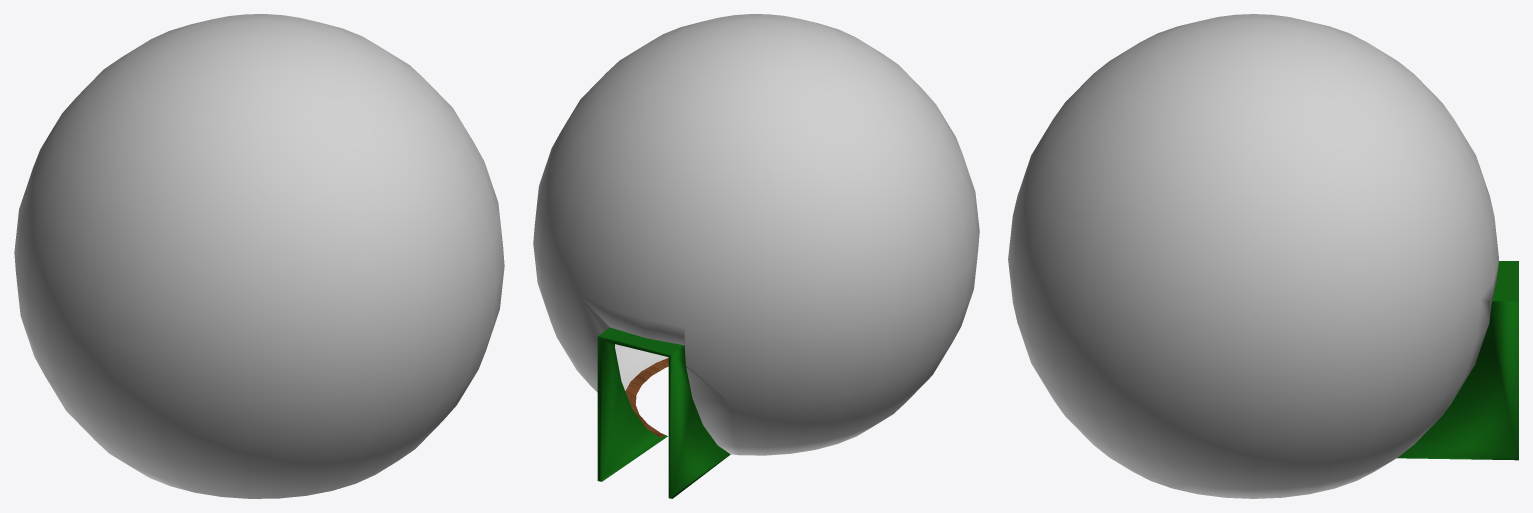
Rendered from 360DegreeIntegrated.fbx.
The picture shows the model from 3 angles, left to right: view 1: azimuth 30°, elevation 25°; view 2: azimuth 150°, elevation 25°; view 3: azimuth 270°, elevation 25°; orthographic projection. The views are drawn at different scales.
Parts seen in each view (by area): view 1: SphereCombinedIntegrated; view 2: SphereCombinedIntegrated; view 3: SphereCombinedIntegrated.
Part boxes in pixels (<box>): SphereCombinedIntegrated: <box>14,14,504,498</box>; SphereCombinedIntegrated: <box>533,14,979,498</box>; SphereCombinedIntegrated: <box>1008,14,1518,498</box>.
Bounding box in the file's own units: 200 × 181 × 208.
